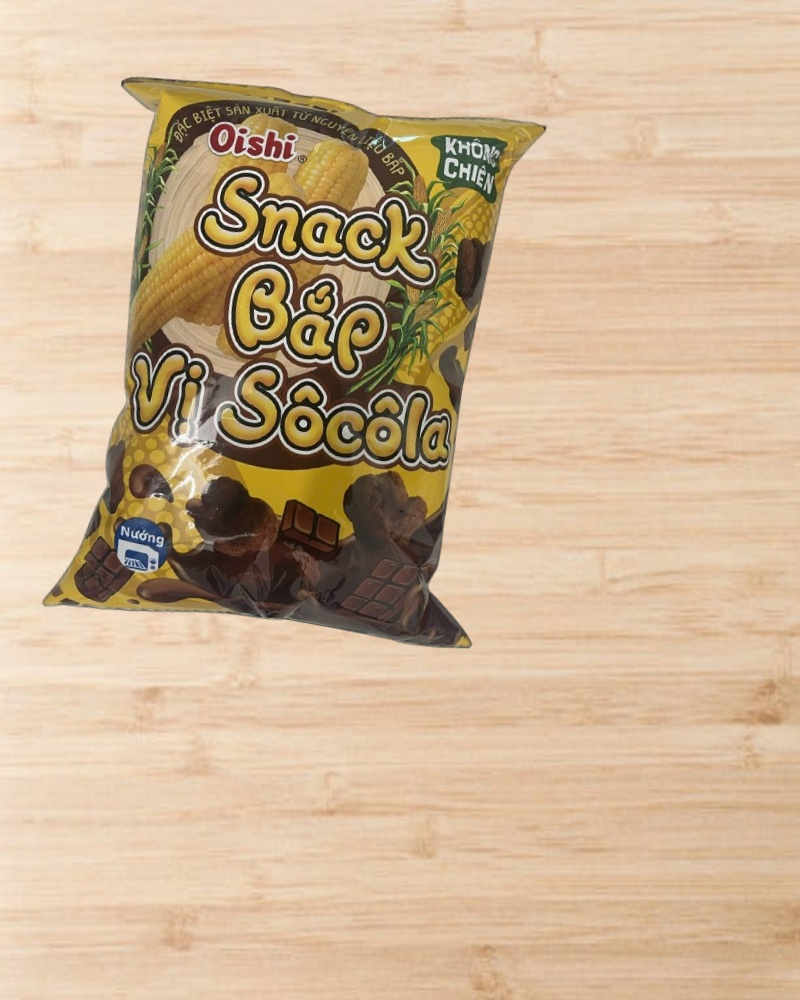Snack socola: (35, 56, 563, 669)
